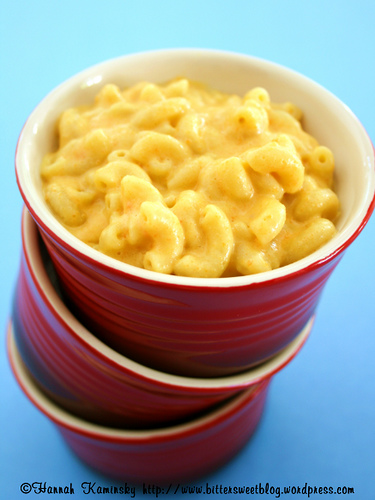macncheese: (43, 69, 337, 278)
